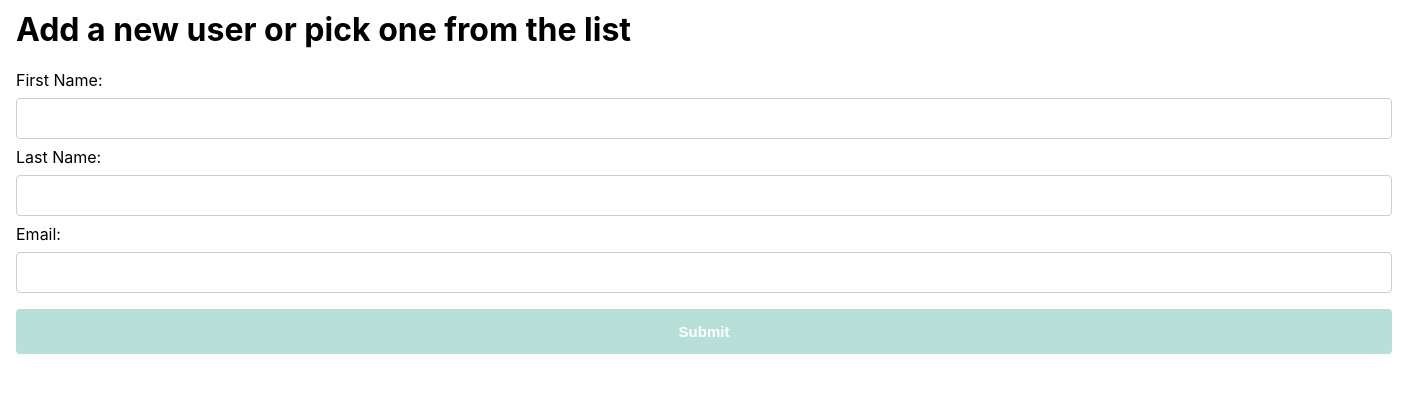
Test: Inputs fields › given invalid data › Last name input › should show "Required" when input field left empty after clicking on it
Click the field labelled "Last Name:" at coordinates (704, 196), box 16,175 -> 1392,216
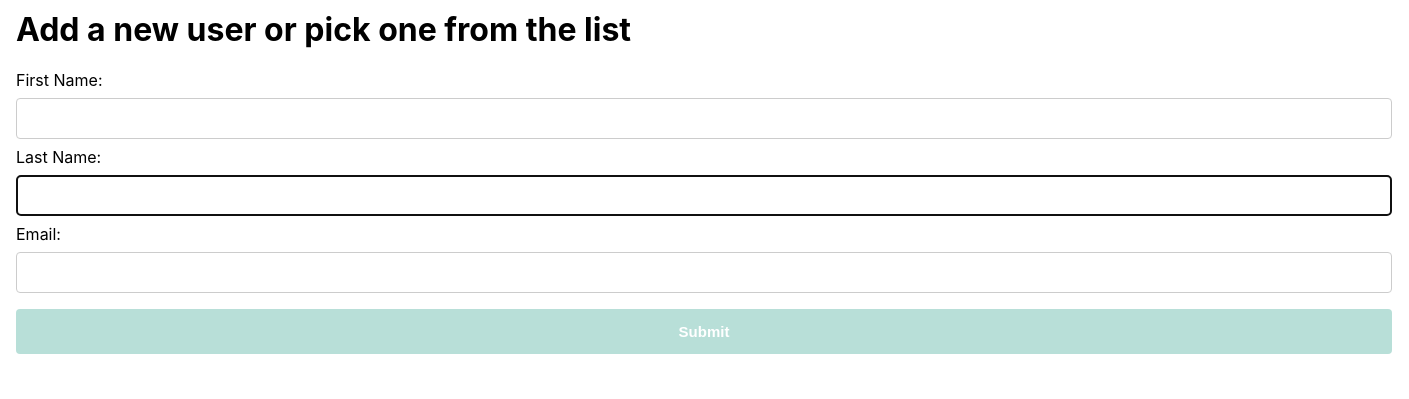
Press Tab
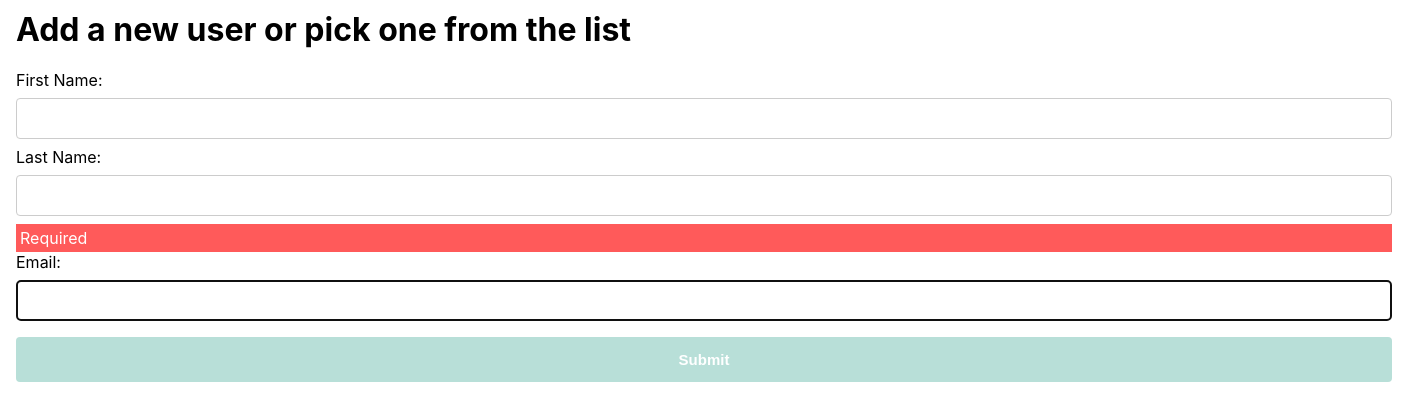
Check: the text "Required" is shown once, box 16,224 -> 1392,252
